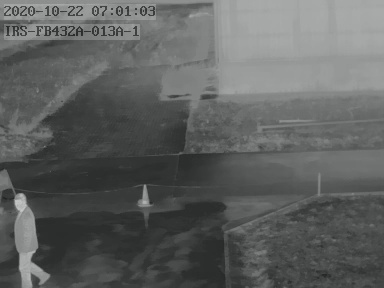person: (14, 192, 45, 288)
